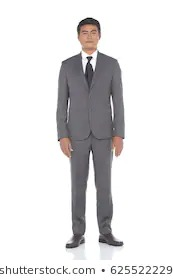F_M_suit jacket: (56, 46, 127, 137)
F_dress pants: (65, 131, 117, 237)
